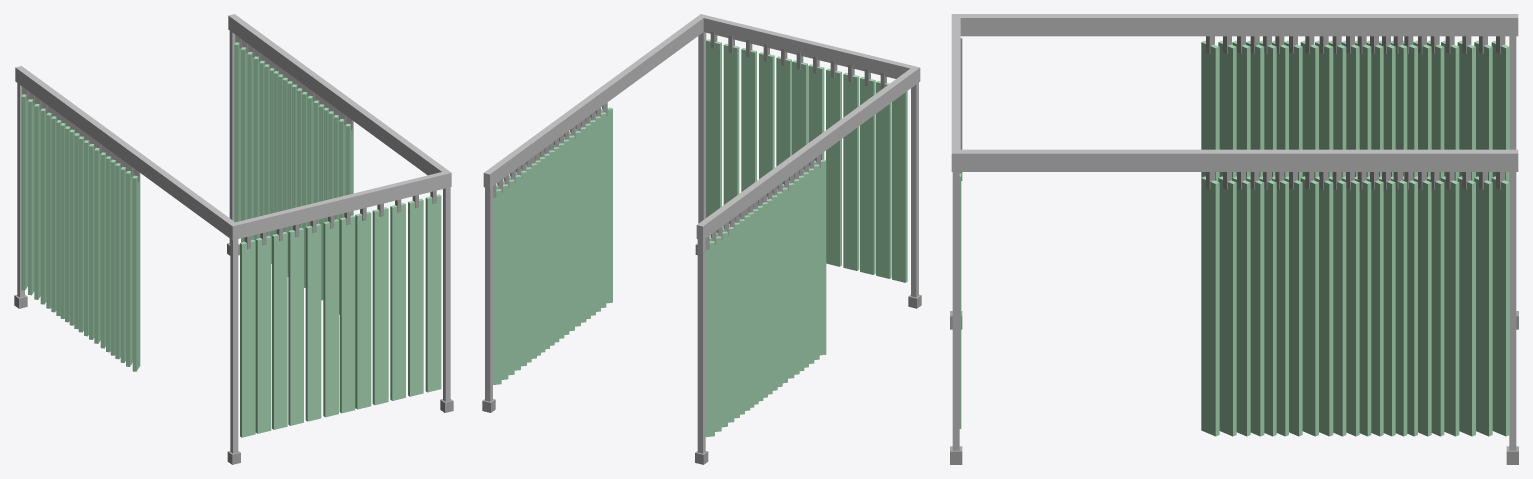
Rendered from screen1.fbx.
3 views of the same model, side by side, from view 1: azimuth 30°, elevation 25°; view 2: azimuth 150°, elevation 25°; view 3: azimuth 270°, elevation 25° (orthographic). The views are drawn at different scales.
Parts seen in each view (by area): view 1: Null_3; view 2: Null_3; view 3: Null_3.
Boxes of the visible parts, x1=… form: Null_3: x1=14, y1=14, x2=453, y2=464; Null_3: x1=482, y1=14, x2=921, y2=464; Null_3: x1=950, y1=14, x2=1518, y2=464.
Size of the model in its own units: 79.3 by 80.04 by 133.
